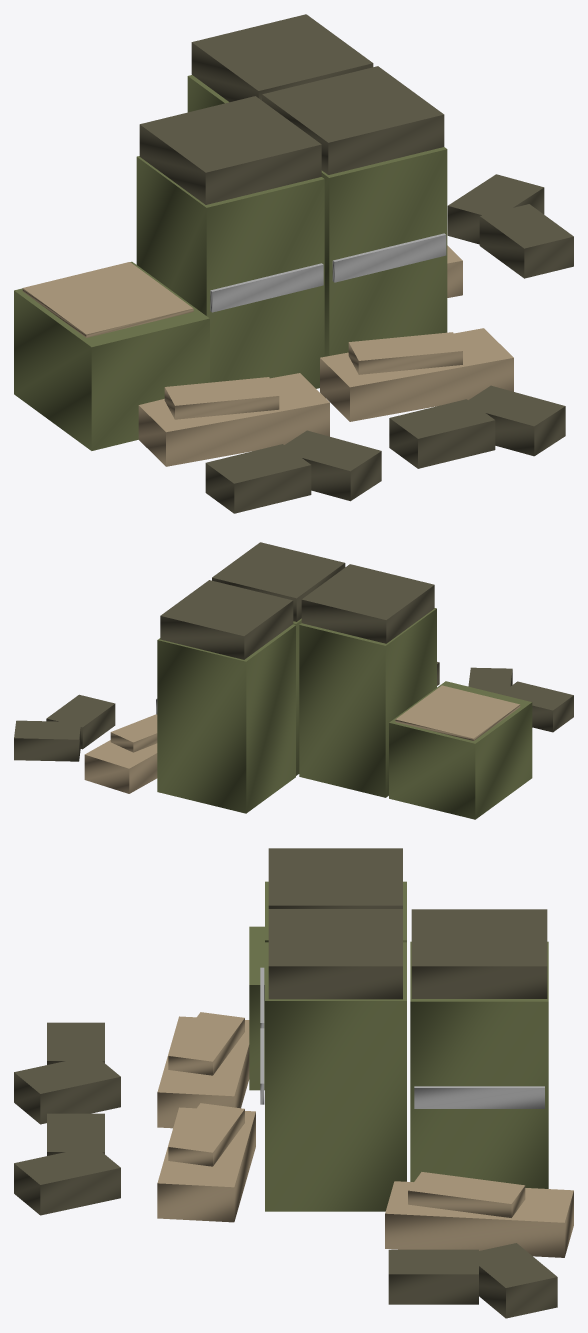
File: SM_HescoRemateEspejo_v3_RemateSacos_e1_Danado_LOD1.fbx
The picture shows the model from 3 angles, top to bottom: view 1: azimuth 30°, elevation 25°; view 2: azimuth 150°, elevation 25°; view 3: azimuth 270°, elevation 25°; orthographic projection. The views are drawn at different scales.
Parts seen in each view (by area): view 1: SM_hesco_piezas_v33_LOD1; view 2: SM_hesco_piezas_v33_LOD1; view 3: SM_hesco_piezas_v33_LOD1.
Boxes of the visible parts, box(x1,y1,x2,y2) form: SM_hesco_piezas_v33_LOD1: box(14, 14, 573, 513); SM_hesco_piezas_v33_LOD1: box(14, 542, 573, 819); SM_hesco_piezas_v33_LOD1: box(14, 848, 573, 1318).
Bounding box in the file's own units: 5.25 × 2.09 × 4.33.
